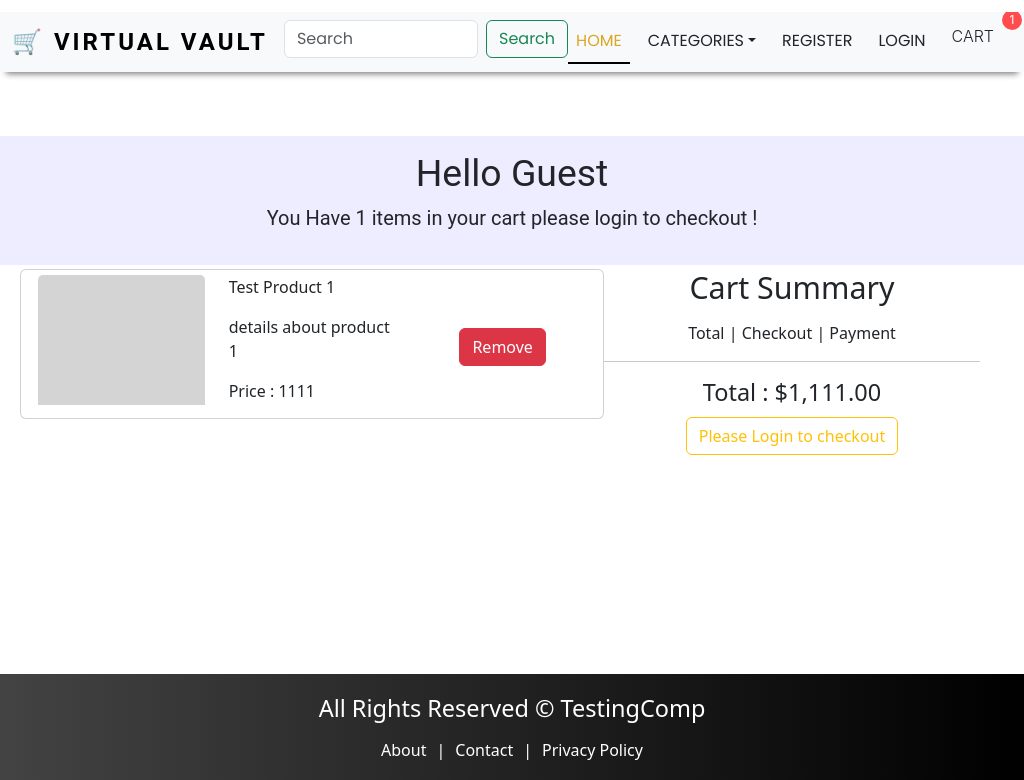
Scenario: CartPage › message for removing only item
Expected: the text "your cart is empty" is not shown
Expected: the text "Test Product 1" is shown, [229,276,335,298]
Click the button "Remove".
click(503, 347)  # box [459,328,546,366]
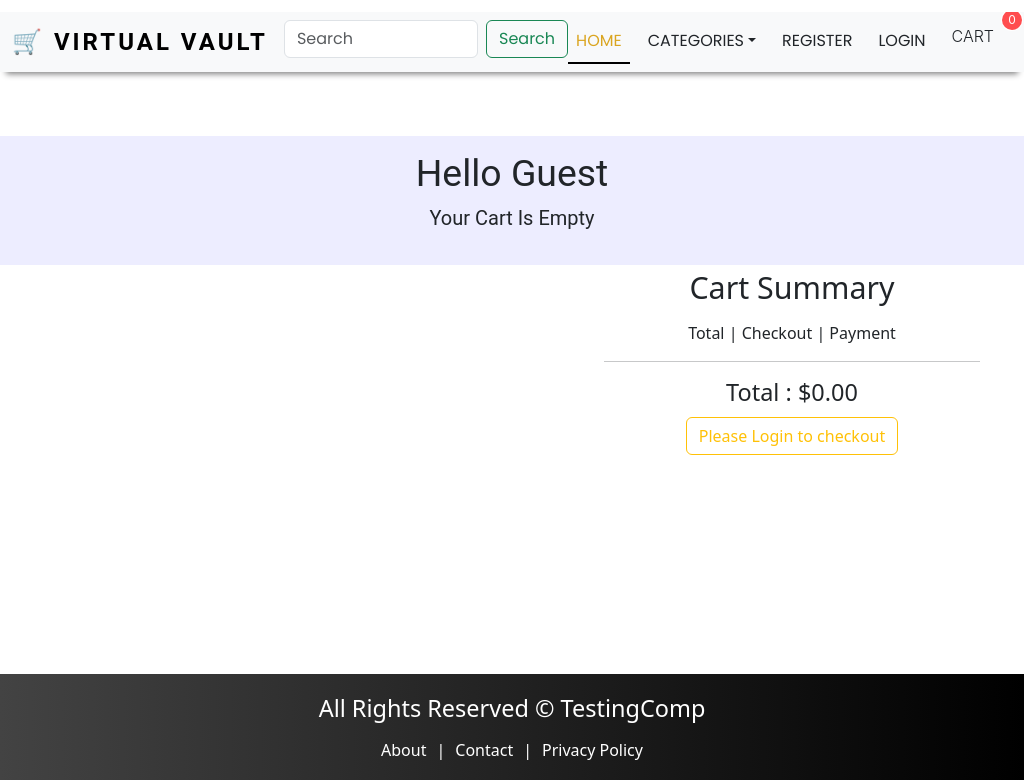
Expected: the text "Your Cart Is Empty" is shown, [430,206,595,230]
Expected: the text "Test Product 1" is gone
Expected: the text "Price : 1111" is gone
